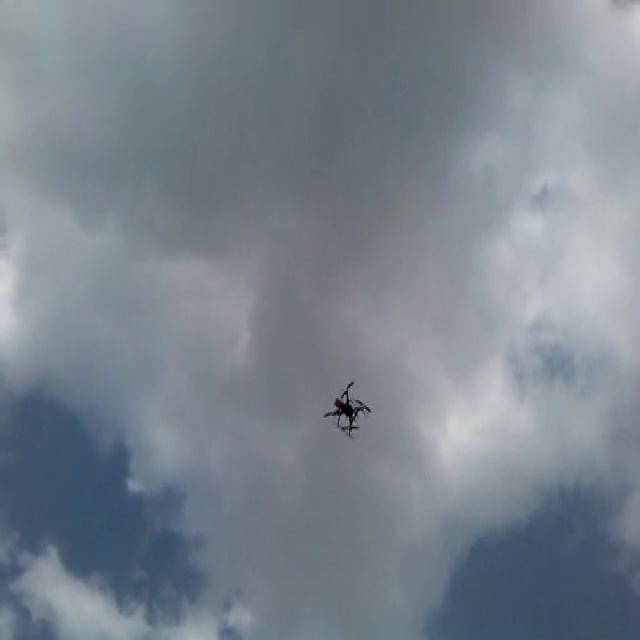drone: (320, 375, 372, 443)
